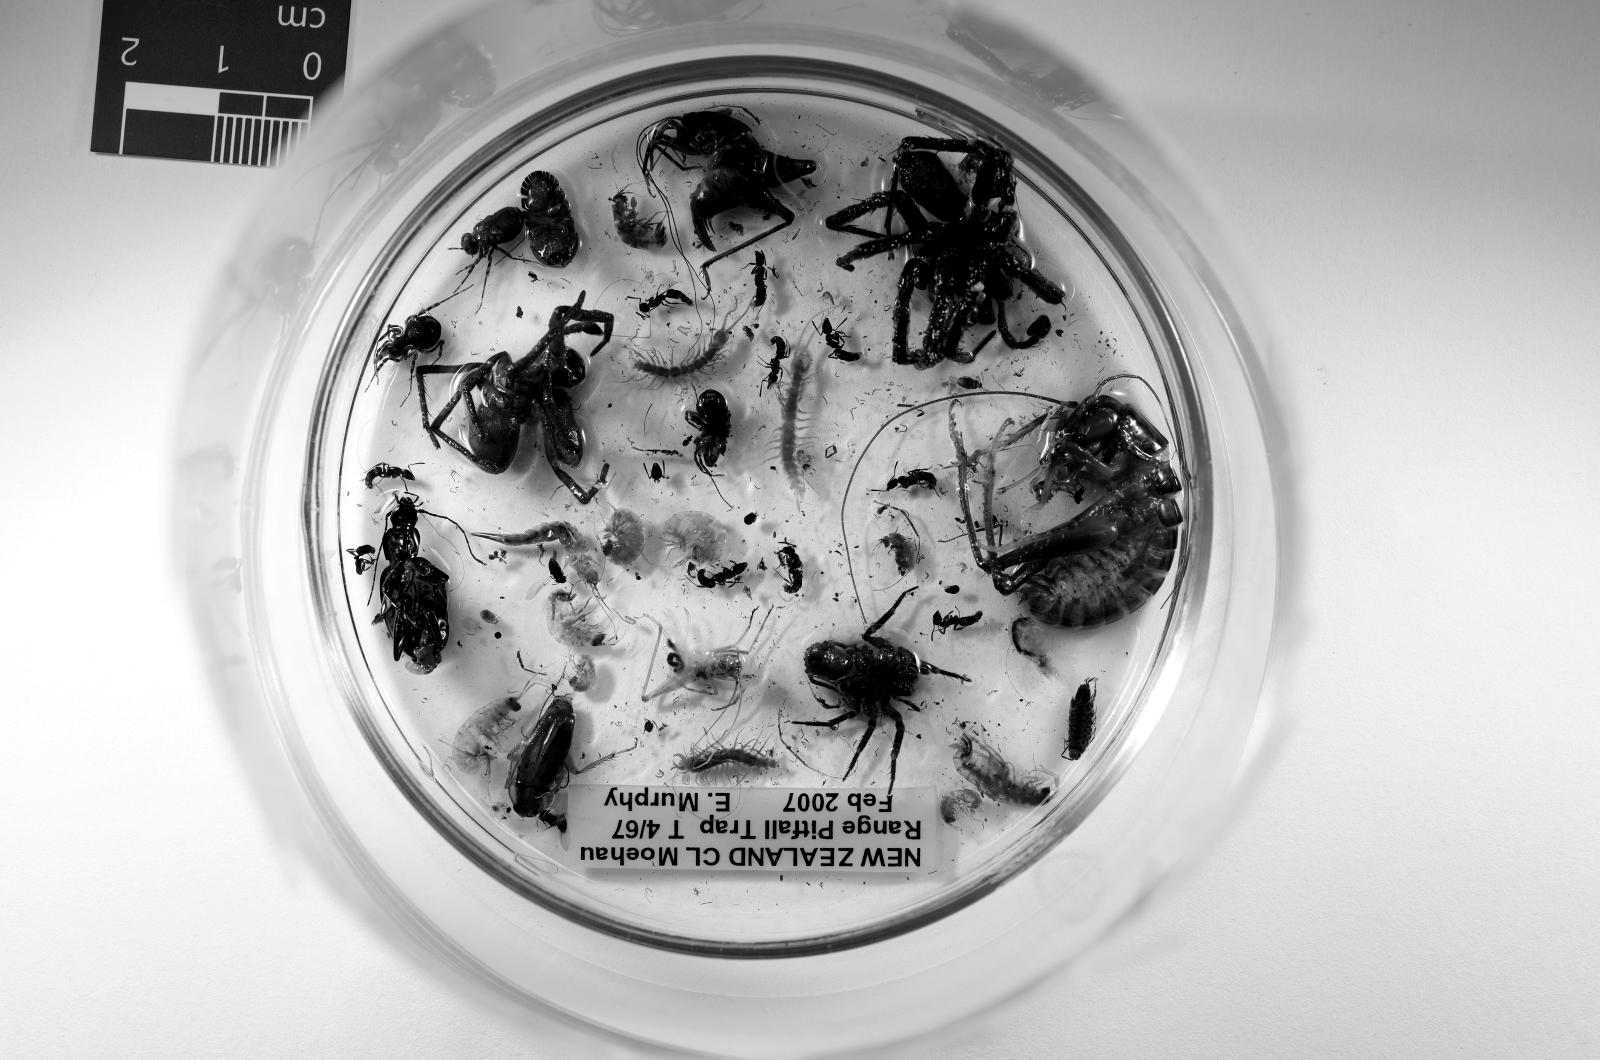amphipoda: (950, 727, 1059, 807), (453, 696, 522, 773), (547, 590, 606, 649), (662, 512, 725, 565), (612, 193, 666, 248), (1009, 618, 1056, 680), (600, 509, 647, 568), (881, 531, 916, 575), (941, 789, 981, 823), (569, 655, 597, 693)
araneae: (825, 137, 1066, 370), (416, 292, 612, 503), (794, 596, 969, 792)
archaeognatha: (475, 522, 603, 587)
blattodea: (506, 696, 584, 829)
carabidae: (378, 497, 450, 674)
chilopoda: (631, 320, 738, 379), (778, 345, 809, 506), (675, 736, 781, 783)
diptera: (525, 556, 566, 599)
formicidae: (822, 317, 862, 363), (688, 562, 747, 590), (638, 289, 694, 317), (778, 540, 803, 596), (766, 335, 791, 388), (366, 463, 416, 488), (884, 469, 938, 491), (931, 612, 981, 634), (347, 543, 375, 575), (753, 252, 769, 307)
isopoda: (522, 171, 578, 267), (1066, 680, 1097, 761)
opiliones: (459, 208, 525, 273), (375, 314, 444, 376), (684, 388, 731, 478)
orthoptera: (950, 394, 1181, 627), (638, 109, 816, 252), (641, 618, 750, 702)
